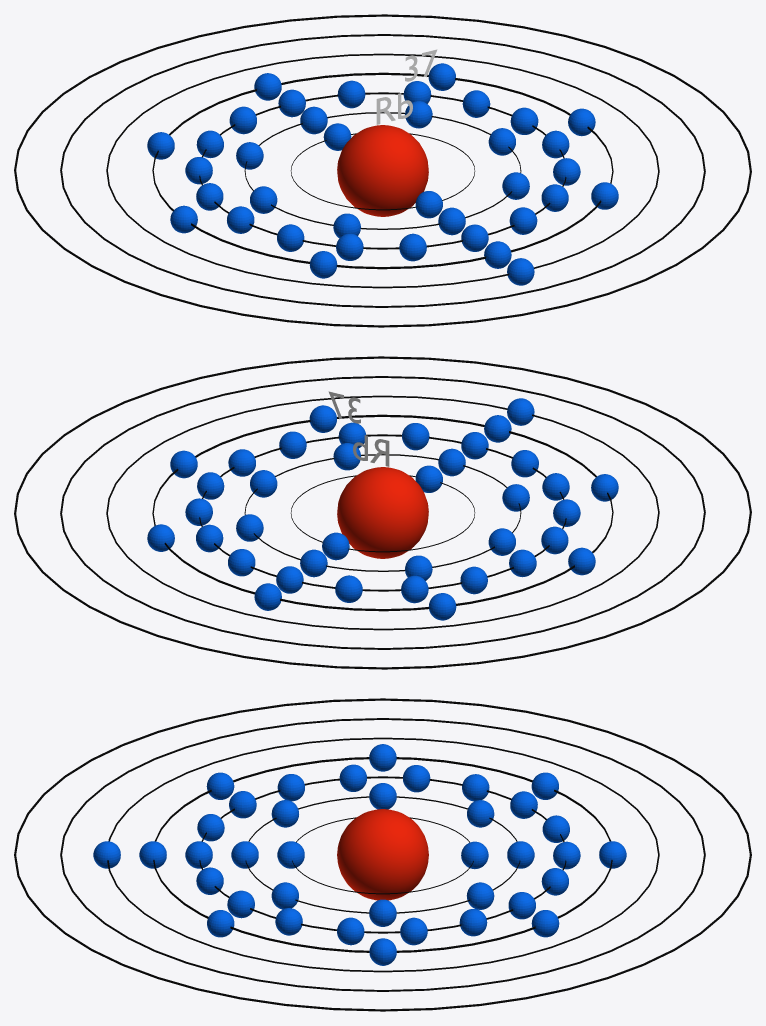
3 views of the same model, one above another, from view 1: azimuth 30°, elevation 25°; view 2: azimuth 150°, elevation 25°; view 3: azimuth 270°, elevation 25° (orthographic).
Parts seen in each view (by area): view 1: R3, Proton, R4, n7, R2, n6, n5, n4, R1, n3, n2, R5; view 2: R3, Proton, R4, n7, R2, n6, n5, n4, R1, n3, n2, R5; view 3: R3, Proton, R2, R4, n7, n6, n5, n4, R1, n3, n2, R5 (+1 smaller).
Boxes of the visible parts, bbox=[...] form: R3: bbox=[185, 80, 580, 261]; Proton: bbox=[337, 125, 428, 216]; R4: bbox=[147, 63, 618, 278]; n7: bbox=[14, 14, 751, 327]; R2: bbox=[236, 101, 529, 238]; n6: bbox=[60, 34, 705, 307]; n5: bbox=[106, 53, 659, 288]; n4: bbox=[152, 72, 613, 269]; R1: bbox=[323, 123, 442, 218]; n3: bbox=[199, 92, 566, 249]; n2: bbox=[244, 112, 521, 229]; R5: bbox=[507, 258, 534, 285]; R3: bbox=[185, 422, 580, 603]; Proton: bbox=[337, 467, 428, 558]; R4: bbox=[147, 405, 618, 620]; n7: bbox=[14, 356, 751, 669]; R2: bbox=[236, 443, 529, 580]; n6: bbox=[60, 376, 705, 649]; n5: bbox=[106, 395, 659, 630]; n4: bbox=[152, 414, 613, 611]; R1: bbox=[322, 465, 442, 560]; n3: bbox=[199, 434, 566, 591]; n2: bbox=[244, 454, 521, 571]; R5: bbox=[507, 398, 534, 425]; R3: bbox=[185, 764, 580, 945]; Proton: bbox=[337, 809, 428, 900]; R2: bbox=[231, 783, 534, 926]; R4: bbox=[139, 744, 626, 965]; n7: bbox=[14, 698, 751, 1011]; n6: bbox=[60, 718, 705, 991]; n5: bbox=[107, 737, 659, 972]; n4: bbox=[153, 757, 612, 952]; R1: bbox=[277, 841, 488, 869]; n3: bbox=[199, 776, 566, 933]; n2: bbox=[245, 796, 520, 913]; R5: bbox=[93, 841, 120, 868].
Size of the model in its own units: 802 by 180 by 802.
